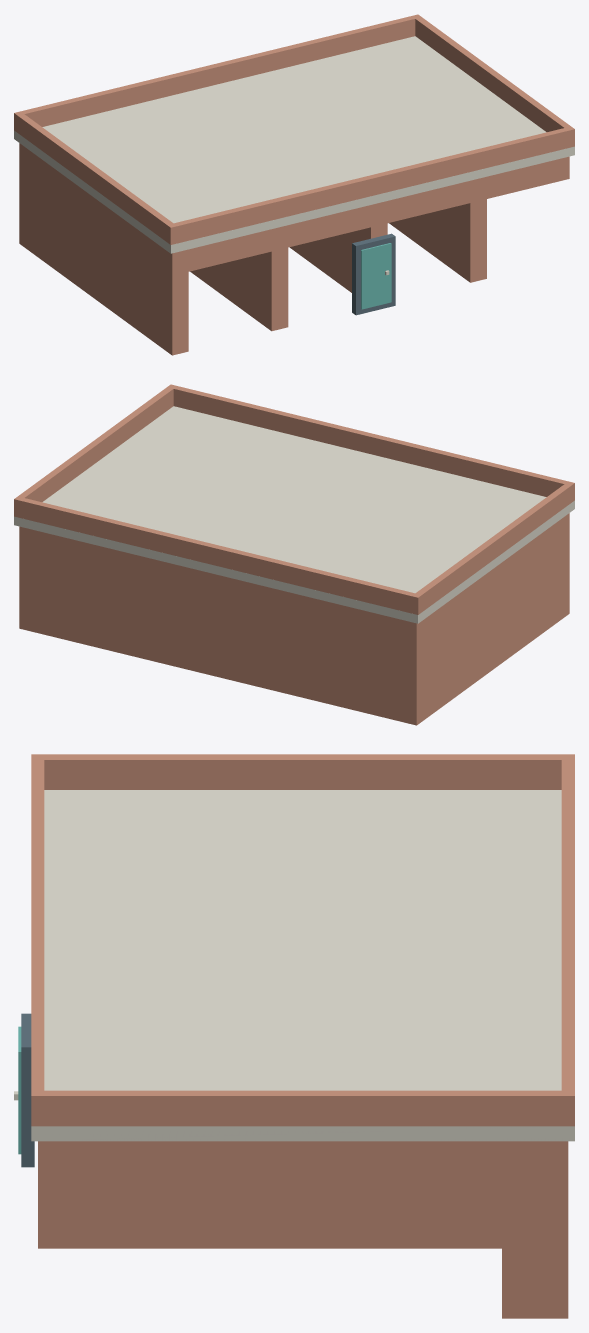
File: predio_arcade.glb
The picture shows the model from 3 angles, top to bottom: view 1: azimuth 30°, elevation 25°; view 2: azimuth 150°, elevation 25°; view 3: azimuth 270°, elevation 25°; orthographic projection. The views are drawn at different scales.
Parts seen in each view (by area): view 1: arcade-market-brick, arcade-market-concrete, arcade-market-accent, arcade-market-dark; view 2: arcade-market-brick, arcade-market-concrete; view 3: arcade-market-concrete, arcade-market-brick, arcade-market-dark.
Boxes of the visible parts, <box> form: arcade-market-brick: <box>14,14,574,355</box>; arcade-market-concrete: <box>14,36,574,275</box>; arcade-market-accent: <box>361,243,391,309</box>; arcade-market-dark: <box>352,233,395,315</box>; arcade-market-brick: <box>14,384,574,725</box>; arcade-market-concrete: <box>14,406,574,623</box>; arcade-market-concrete: <box>14,790,574,1141</box>; arcade-market-brick: <box>31,754,574,1318</box>; arcade-market-dark: <box>21,1013,34,1167</box>.
Size of the model in its own units: 12.2 by 3.75 by 8.46.
